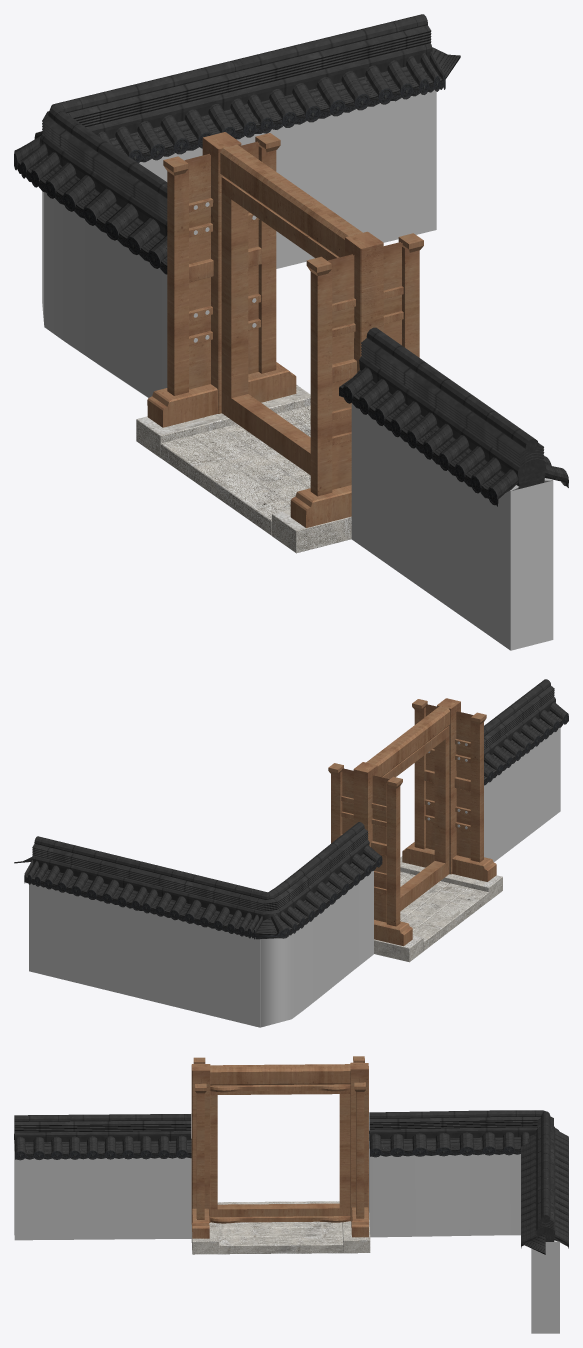
File: SM_JSH_HG_StoneWallH_Splines_22.fbx
3 renders of one model, top to bottom at view 1: azimuth 30°, elevation 25°; view 2: azimuth 150°, elevation 25°; view 3: azimuth 270°, elevation 25°, orthographic. The views are drawn at different scales.
Visible parts, largest first — view 1: SM_JSH_HG_StoneWallH_Splines_22; view 2: SM_JSH_HG_StoneWallH_Splines_22; view 3: SM_JSH_HG_StoneWallH_Splines_22.
Part boxes in pixels (<box>): SM_JSH_HG_StoneWallH_Splines_22: <box>14,14,568,650</box>; SM_JSH_HG_StoneWallH_Splines_22: <box>14,679,568,1027</box>; SM_JSH_HG_StoneWallH_Splines_22: <box>14,1056,568,1333</box>.
Size of the model in its own units: 433 by 755 by 248.
